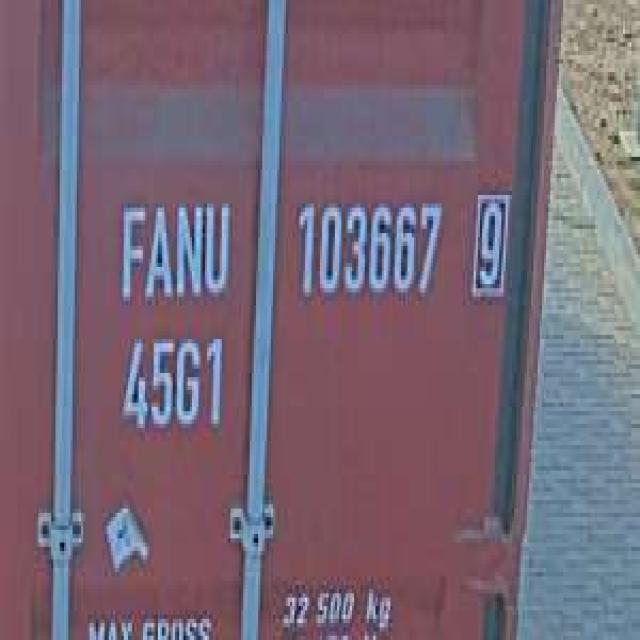dv: (467, 178, 512, 305)
owner: (111, 187, 235, 305)
serial: (290, 186, 444, 314)
size: (116, 326, 230, 441)
